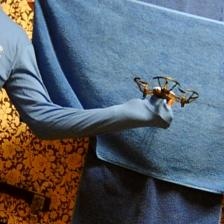drone: (133, 75, 200, 109)
